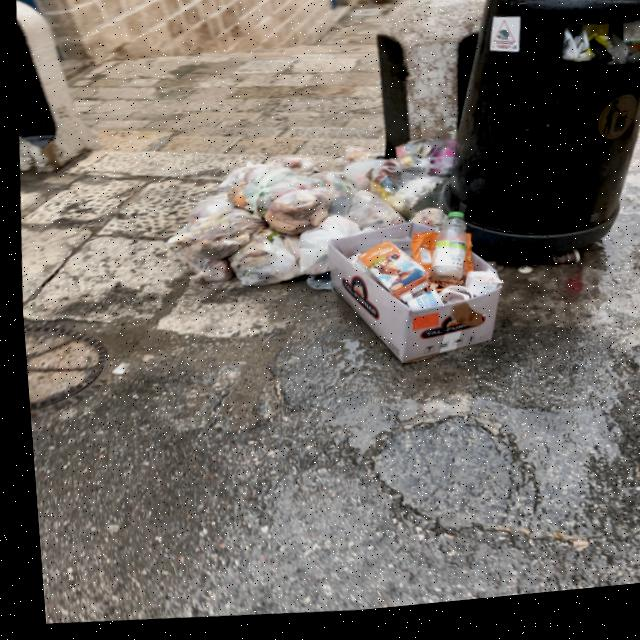Organic Waste -White Bag-: (162, 205, 267, 269), (364, 166, 452, 237), (221, 231, 302, 297), (292, 219, 372, 285), (234, 168, 323, 226), (212, 157, 317, 198), (260, 190, 338, 245), (337, 192, 406, 244), (388, 144, 458, 192), (302, 174, 354, 226), (180, 188, 240, 229), (339, 162, 394, 202), (179, 252, 229, 294)
Other: (317, 212, 505, 383), (551, 25, 640, 87), (543, 257, 584, 284)
